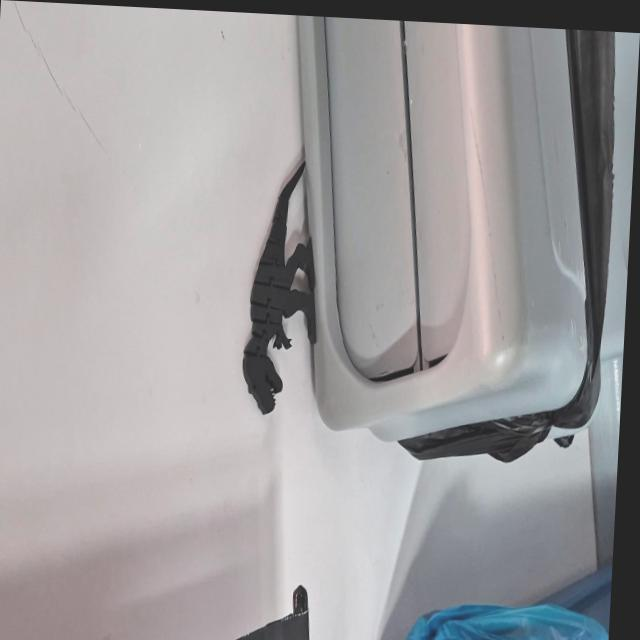dino: (238, 157, 326, 419)
